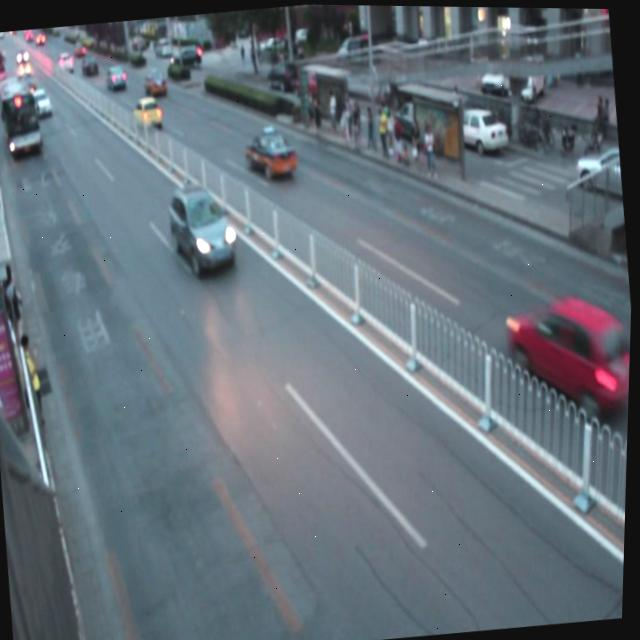car: (504, 289, 625, 426), (165, 179, 240, 275), (243, 123, 299, 183), (130, 93, 164, 132)
van: (0, 72, 45, 152)
